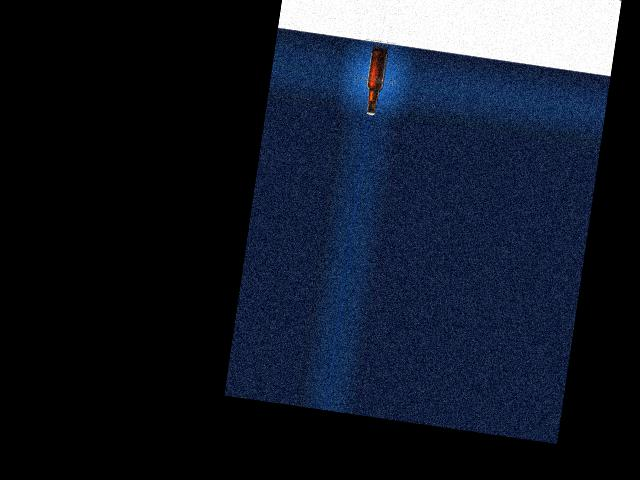beer: (362, 49, 388, 116)
